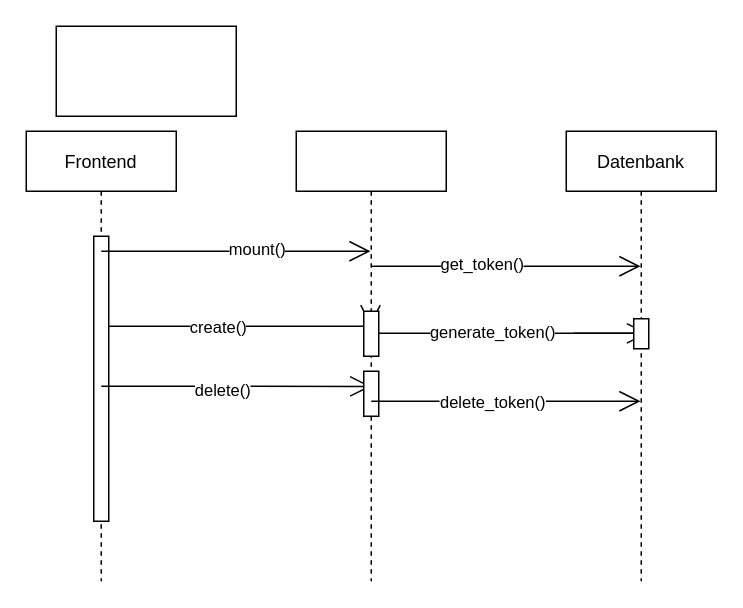
Image size: 743x608. Some labels were removed from this diagram. Here are the shapes that lost their labels. From the top down, the centre of each, then its label:
At (x=145, y=70): "Tokens".
At (x=370, y=355): "Backend".
